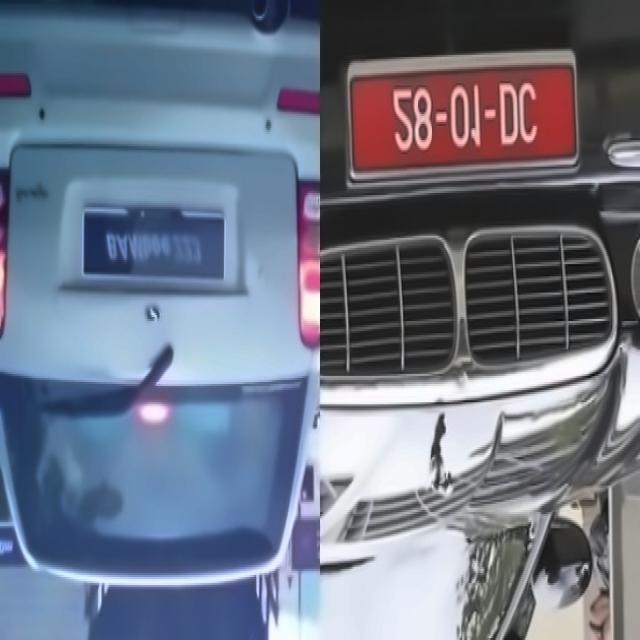car-plate: (346, 48, 580, 195), (82, 208, 224, 282)
